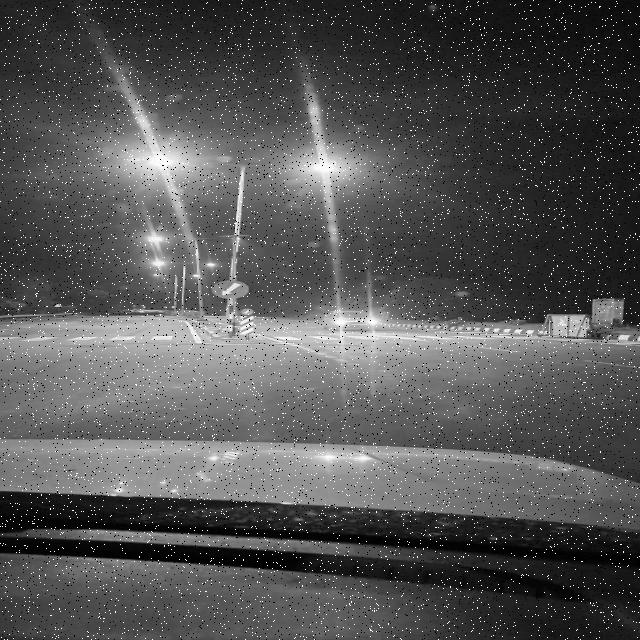compulsory_keep_left: (205, 281, 251, 300)
object_hazzard_to_right: (238, 315, 255, 334)
